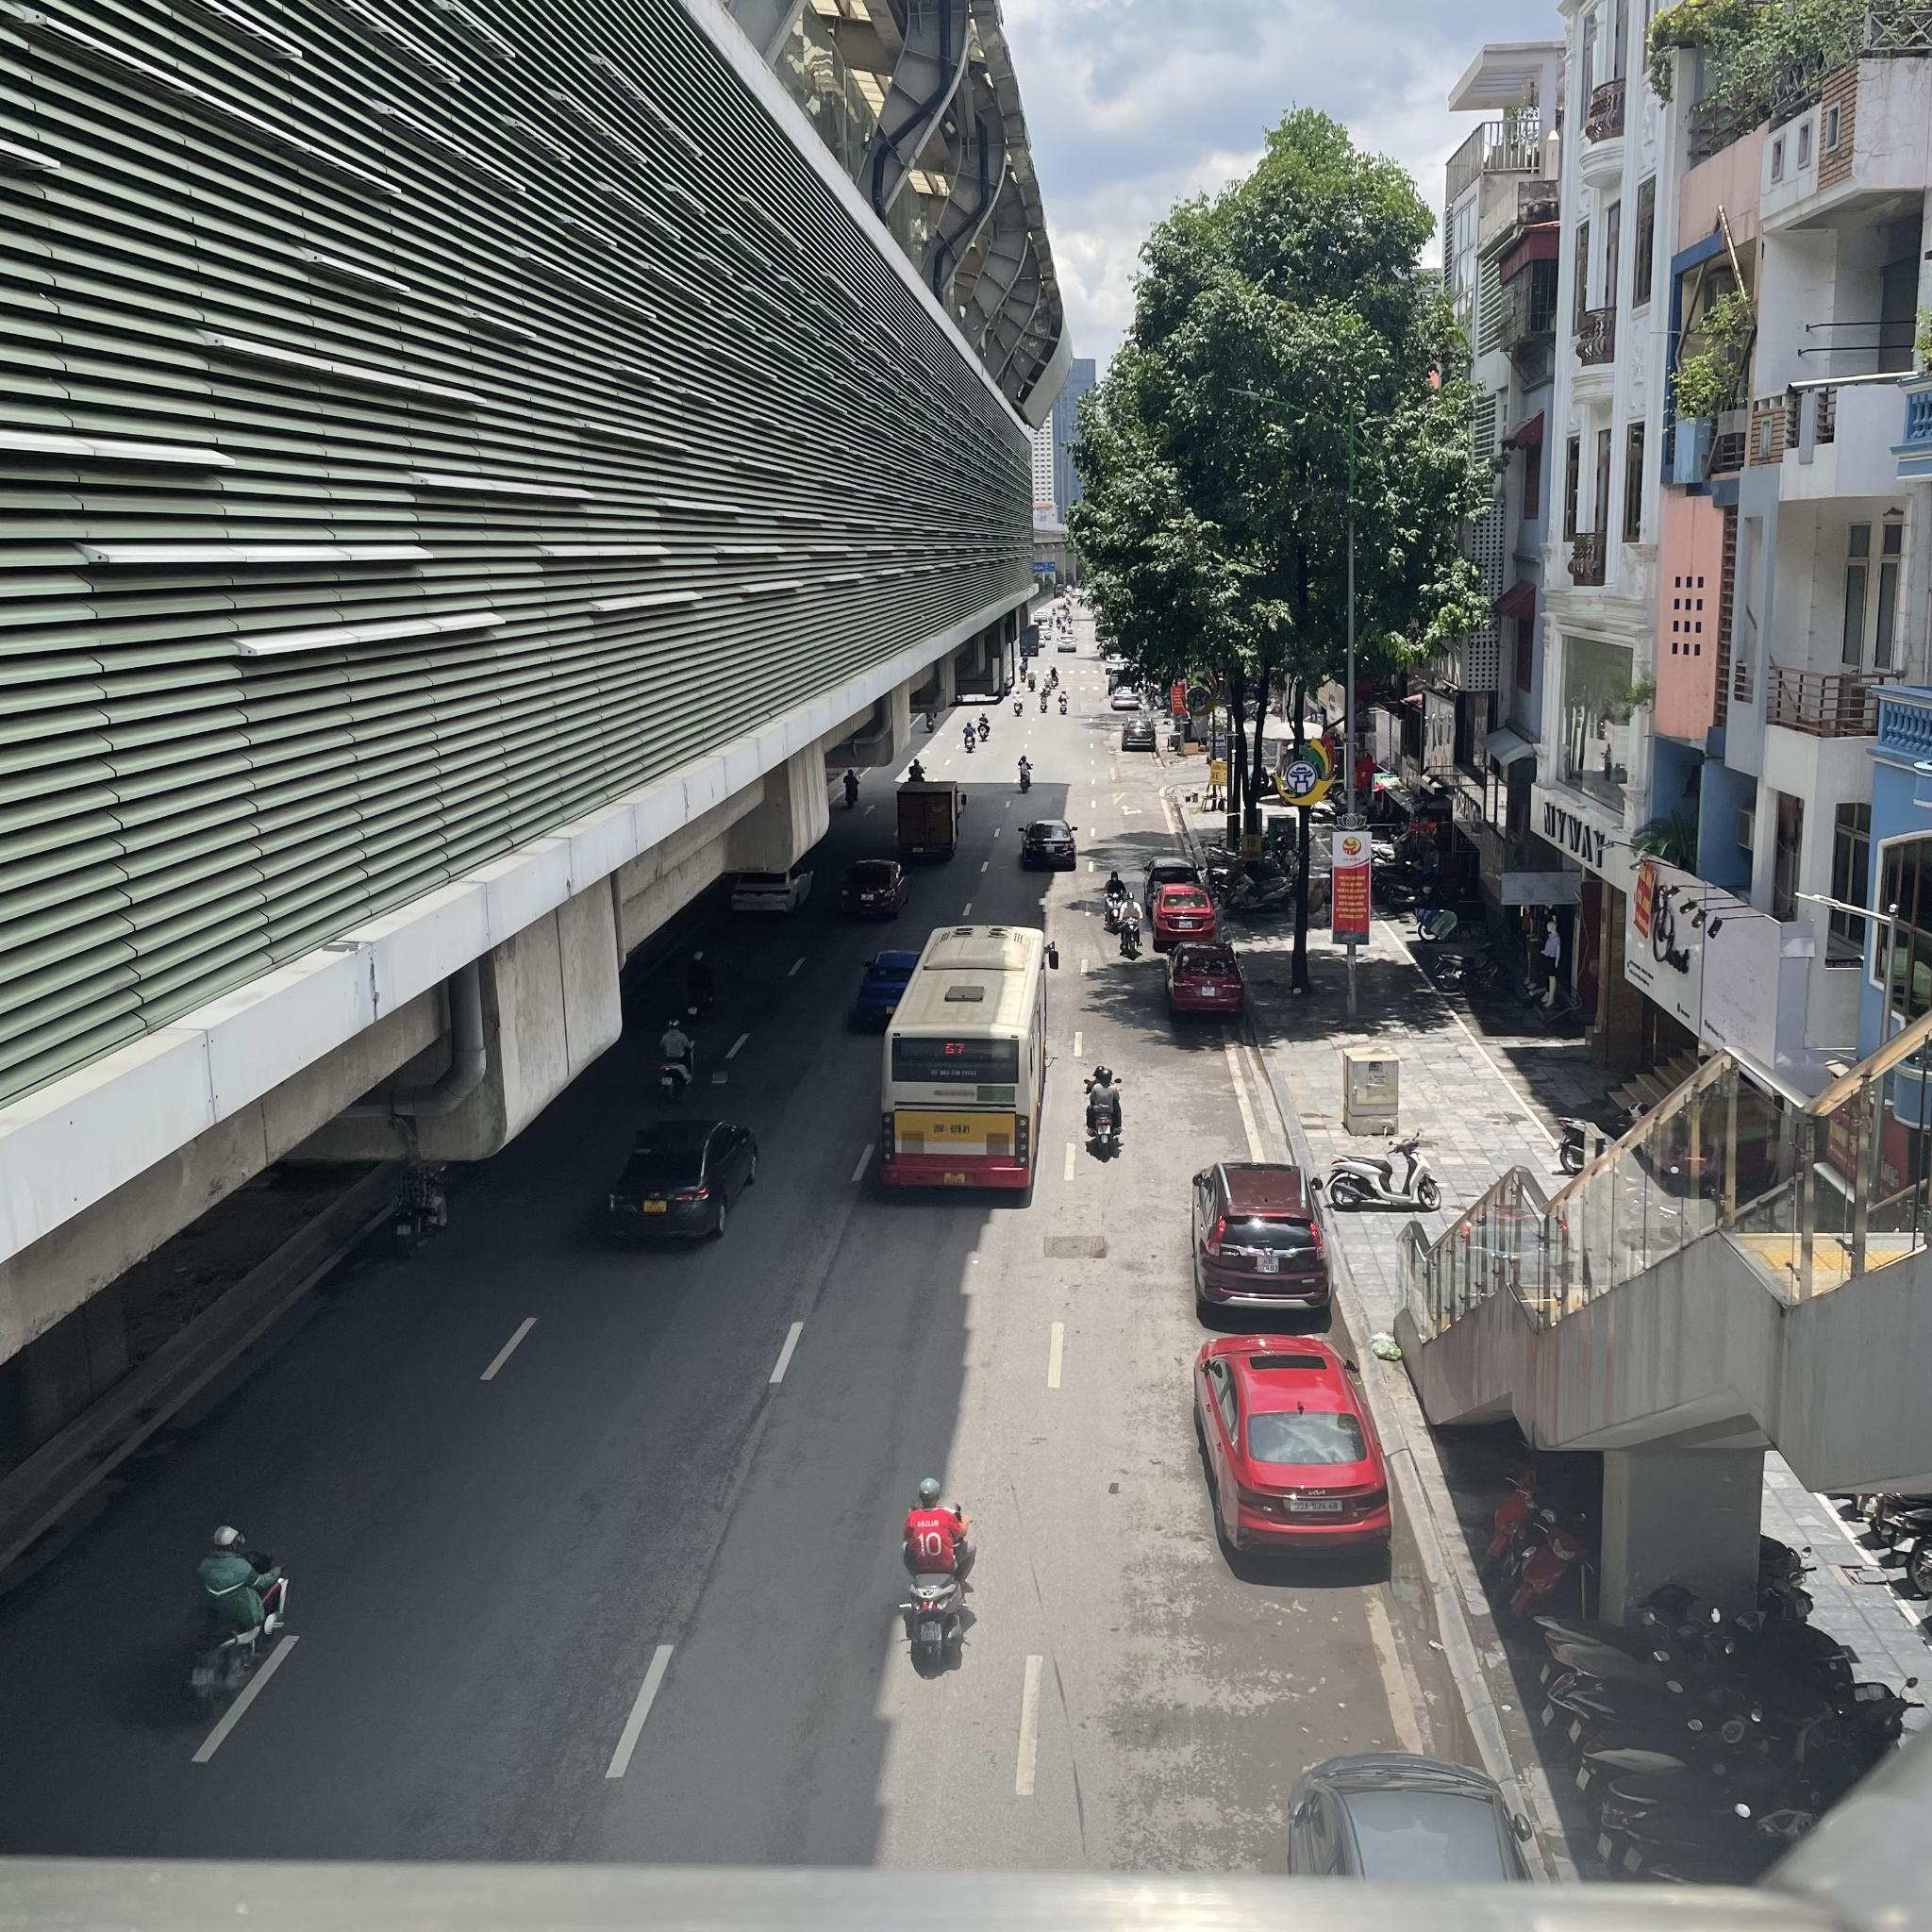car: (1194, 1327, 1387, 1582), (876, 929, 1060, 1184), (591, 1118, 752, 1256), (1180, 1162, 1327, 1313), (1166, 947, 1247, 1021), (720, 860, 817, 915), (901, 778, 961, 862), (837, 860, 906, 925), (1150, 883, 1221, 941), (1026, 819, 1077, 863)
motobike: (166, 1530, 295, 1709), (899, 1477, 975, 1679), (1327, 1138, 1444, 1215), (386, 1159, 456, 1274), (1074, 1053, 1129, 1169), (655, 1019, 701, 1106), (679, 947, 720, 1021), (1102, 870, 1129, 931), (1120, 892, 1139, 955), (842, 770, 860, 805), (1017, 755, 1033, 789)
